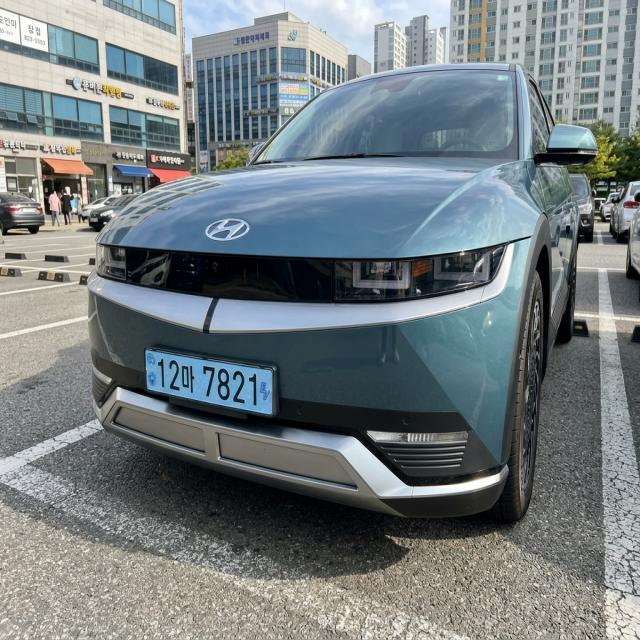car: (133, 338, 299, 430)
carev: (256, 363, 276, 417), (141, 348, 158, 397)
